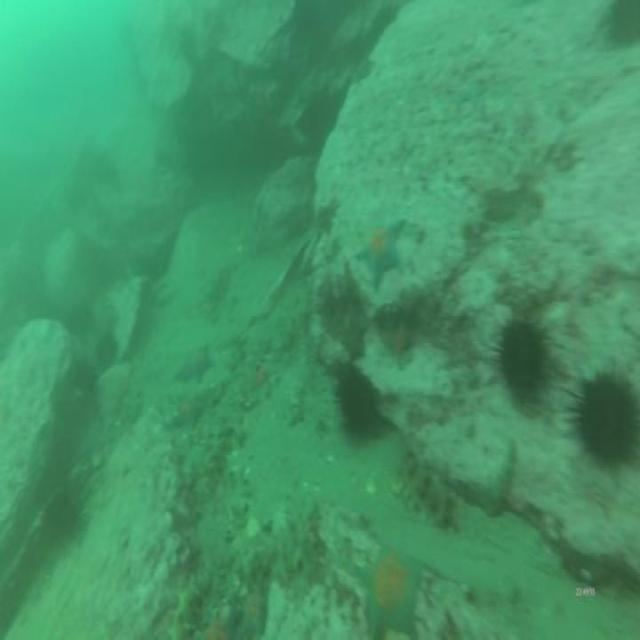echinus: (565, 365, 640, 466), (491, 313, 560, 419), (332, 365, 384, 438), (44, 487, 82, 550), (602, 0, 640, 52), (93, 328, 120, 374)
holothurian: (390, 446, 460, 536), (163, 572, 204, 640)
starfish: (354, 539, 426, 640), (354, 213, 409, 294), (335, 311, 372, 370), (174, 338, 218, 387), (165, 389, 211, 433), (235, 581, 269, 640), (198, 607, 239, 640)
